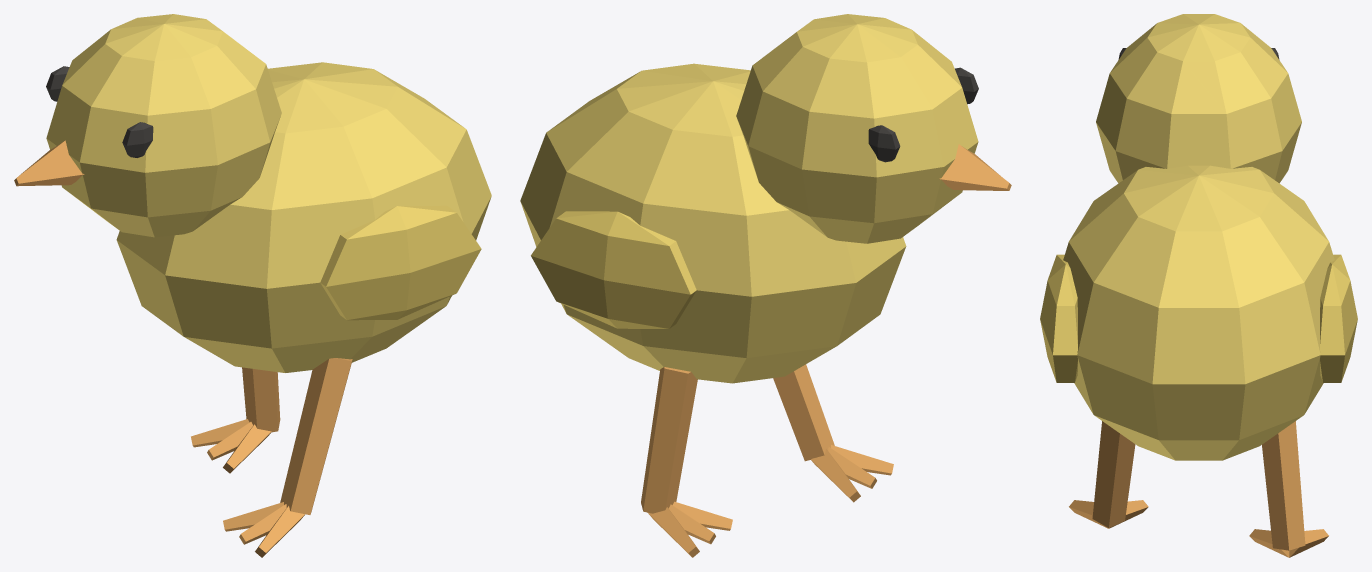
The model's file is chick.glb.
3 renders of one model, left to right at view 1: azimuth 30°, elevation 25°; view 2: azimuth 150°, elevation 25°; view 3: azimuth 270°, elevation 25°, orthographic. The views are drawn at different scales.
Visible parts, largest first — view 1: Fluff, Head, body_downShade, Leg_L, footL_beak, footR_beak, Leg_R, Beak, head_eye.004; view 2: Fluff, Head, body_downShade, Leg_R, Leg_L, footL_beak, footR_beak, Beak, head_eye.004; view 3: Fluff, Head, body_downShade, Leg_R, Leg_L, footR_beak, footL_beak.
Boxes of the visible parts, x1=… form: Fluff: x1=116, y1=62, x2=491, y2=372; Head: x1=46, y1=14, x2=281, y2=237; body_downShade: x1=320, y1=205, x2=481, y2=320; Leg_L: x1=280, y1=358, x2=352, y2=514; footL_beak: x1=223, y1=502, x2=304, y2=557; footR_beak: x1=191, y1=419, x2=271, y2=473; Leg_R: x1=242, y1=367, x2=280, y2=432; Beak: x1=14, y1=140, x2=84, y2=186; head_eye.004: x1=46, y1=66, x2=153, y2=157; Fluff: x1=520, y1=63, x2=906, y2=383; Head: x1=736, y1=14, x2=978, y2=243; body_downShade: x1=531, y1=211, x2=696, y2=328; Leg_R: x1=641, y1=367, x2=697, y2=513; Leg_L: x1=773, y1=364, x2=834, y2=461; footL_beak: x1=811, y1=445, x2=893, y2=502; footR_beak: x1=648, y1=501, x2=732, y2=557; Beak: x1=939, y1=144, x2=1011, y2=190; head_eye.004: x1=868, y1=67, x2=978, y2=162; Fluff: x1=1063, y1=165, x2=1334, y2=460; Head: x1=1096, y1=14, x2=1301, y2=183; body_downShade: x1=1040, y1=254, x2=1357, y2=382; Leg_R: x1=1262, y1=421, x2=1305, y2=550; Leg_L: x1=1092, y1=421, x2=1135, y2=527; footR_beak: x1=1249, y1=529, x2=1328, y2=557; footL_beak: x1=1069, y1=500, x2=1148, y2=528.
Size of the model in its own units: 0.116 by 0.1214 by 0.074.
